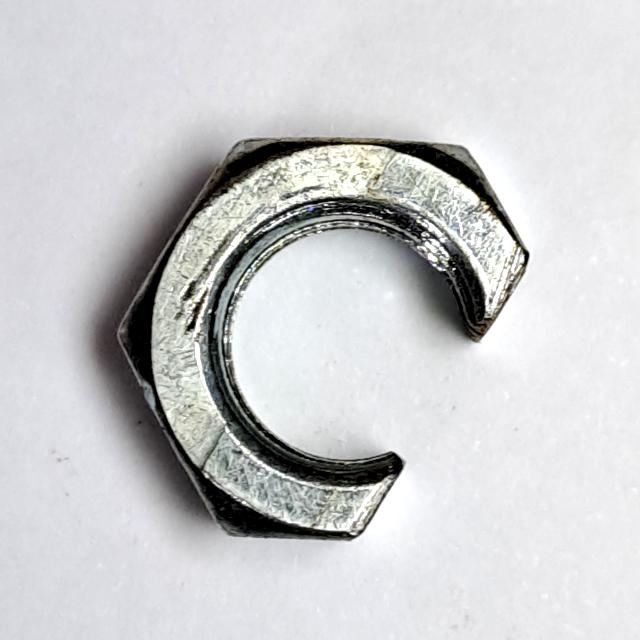Fracture: (104, 121, 544, 559)
